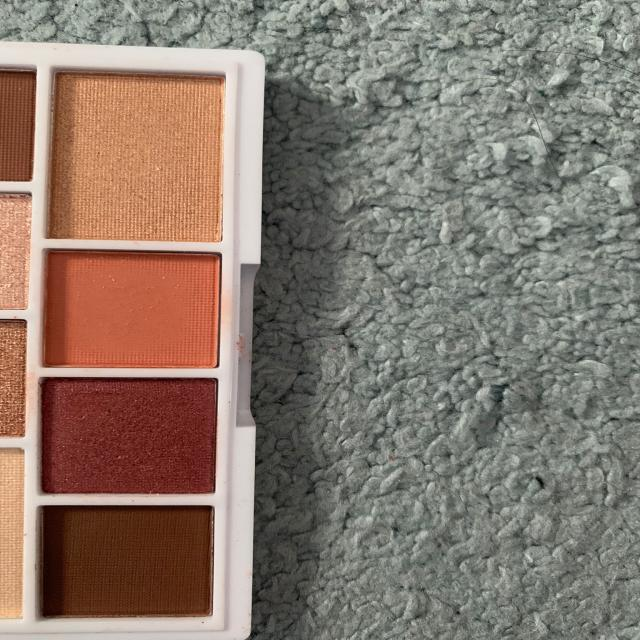eye shade: (25, 53, 246, 640)
